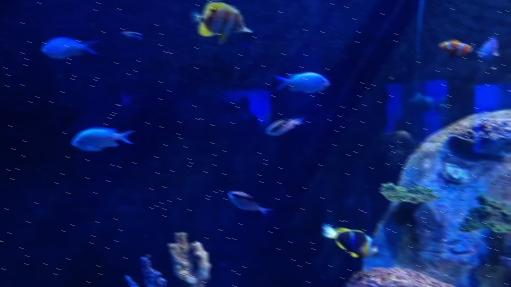Fish: (192, 2, 251, 43), (322, 224, 377, 257), (71, 127, 134, 150), (41, 37, 98, 58), (276, 72, 329, 92), (230, 191, 272, 215), (268, 116, 304, 135), (439, 39, 472, 55), (479, 36, 499, 59), (122, 31, 143, 39)
